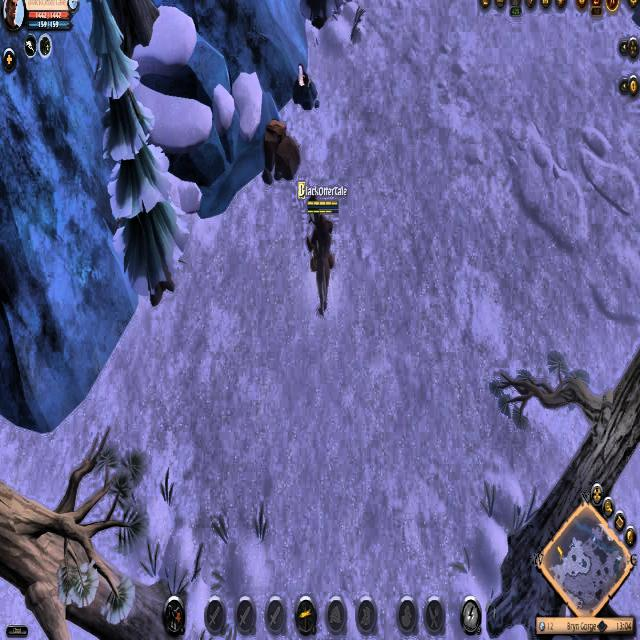copperore: (288, 59, 321, 112)
limestone: (260, 114, 301, 186)
